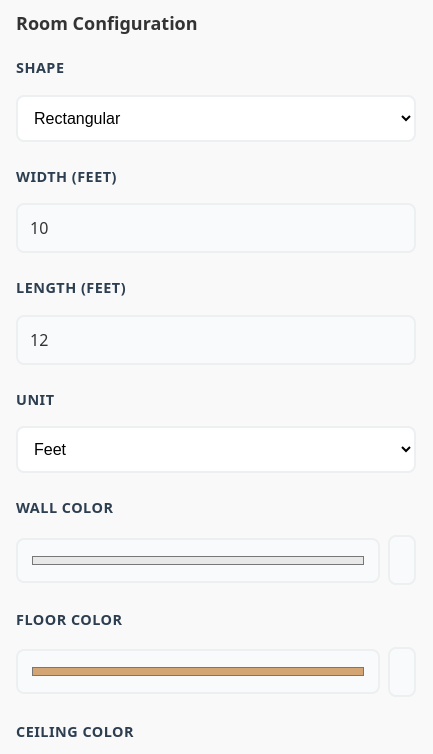
it: RoomConfigPanel › Shape selector › changes dimension inputs when shape changes to square
Note: Change to square
Select "Square" in the dropdown labelled "Shape" at (216, 118), box [16,95,416,142]
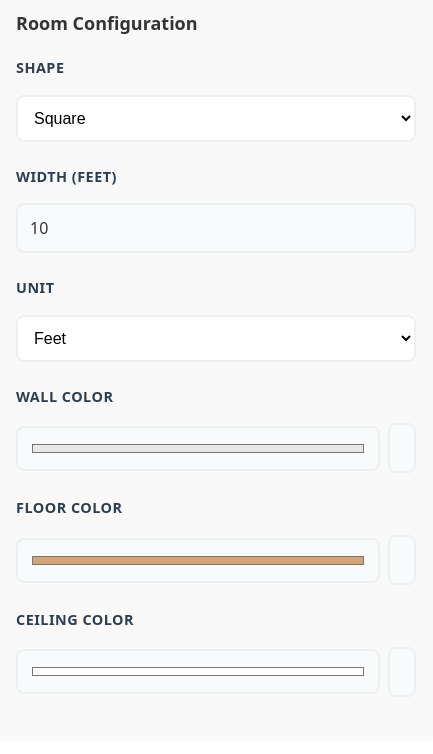
Expected: the number field labelled "Width (feet)" is shown, [16,203,416,253]
Now the label labelled "Length" is gone
